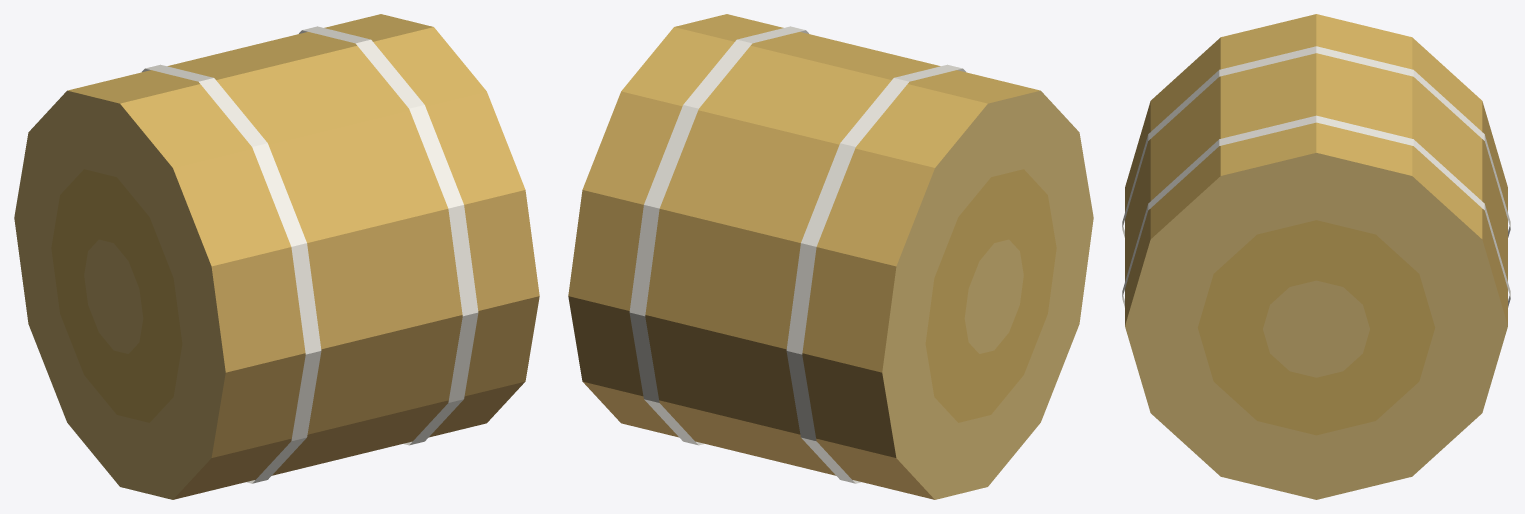
Rendered from hay_bale_round.glb.
3 views of the same model, side by side, from view 1: azimuth 30°, elevation 25°; view 2: azimuth 150°, elevation 25°; view 3: azimuth 270°, elevation 25° (orthographic). The views are drawn at different scales.
Parts seen in each view (by area): view 1: hay_bale_round; view 2: hay_bale_round; view 3: hay_bale_round.
Boxes of the visible parts, left/top/right/bottom form: hay_bale_round: left=14, top=14, right=539, bottom=499; hay_bale_round: left=568, top=14, right=1093, bottom=499; hay_bale_round: left=1122, top=14, right=1510, bottom=499.
Bounding box in the file's own units: 1.25 × 1.42 × 1.42.
